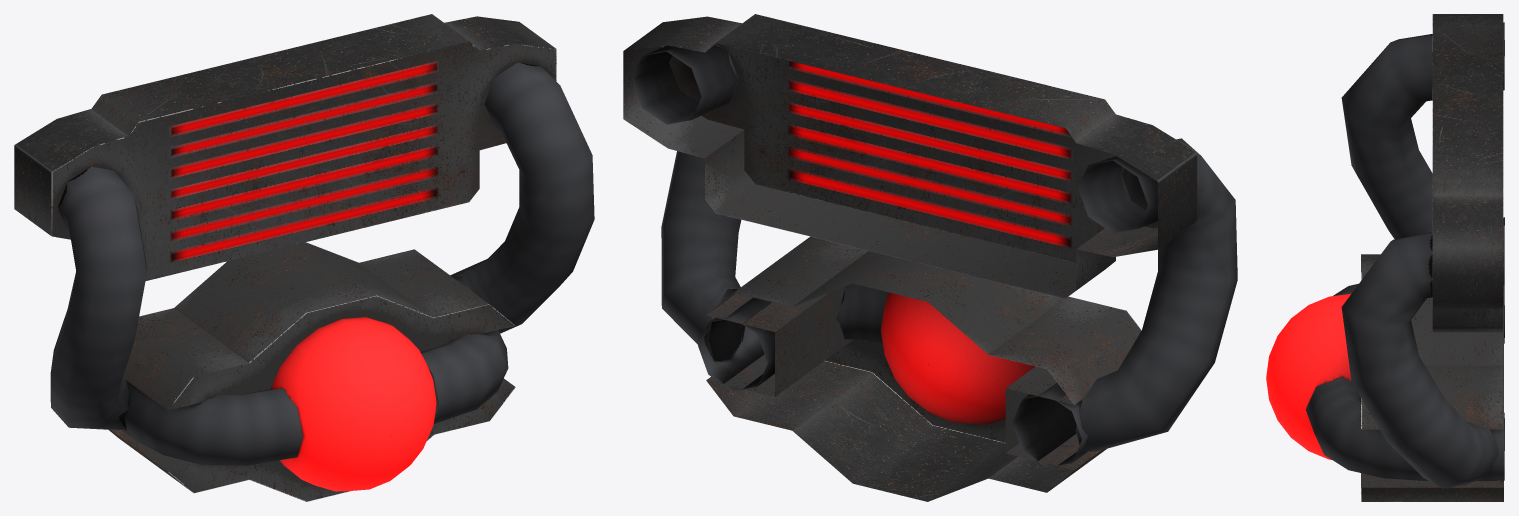
File: WallTarget.fbx
The picture shows the model from 3 angles, left to right: view 1: azimuth 30°, elevation 25°; view 2: azimuth 150°, elevation 25°; view 3: azimuth 270°, elevation 25°; orthographic projection. The views are drawn at different scales.
Visible parts, largest first — view 1: WallTarget; view 2: WallTarget; view 3: WallTarget.
Boxes of the visible parts, box(x1,y1,x2,y2) form: WallTarget: box(14, 14, 594, 501); WallTarget: box(623, 14, 1237, 501); WallTarget: box(1266, 14, 1504, 501).
Size of the model in its own units: 1.63 by 1.15 by 0.6812.
